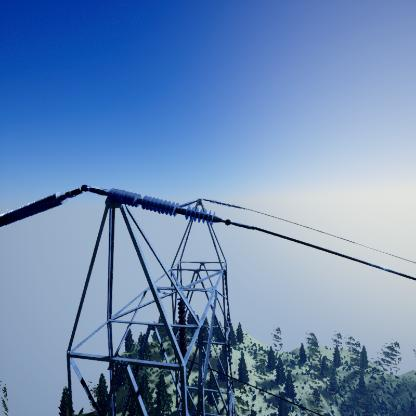insulator: (105, 187, 218, 224), (0, 191, 62, 228), (178, 299, 188, 361)
